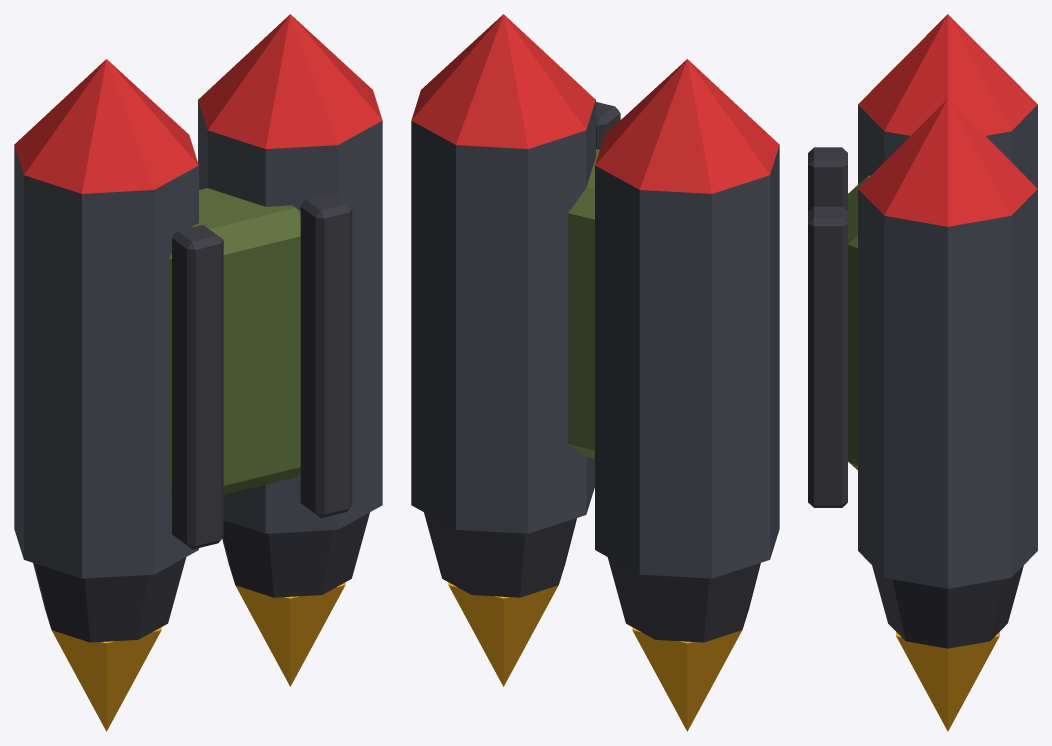
File: Jetpack.fbx
3 renders of one model, left to right at view 1: azimuth 30°, elevation 25°; view 2: azimuth 150°, elevation 25°; view 3: azimuth 270°, elevation 25°, orthographic. The views are drawn at different scales.
Visible parts, largest first — view 1: Jetpack; view 2: Jetpack; view 3: Jetpack.
Boxes of the visible parts, bbox=[...] form: Jetpack: bbox=[14, 14, 382, 731]; Jetpack: bbox=[411, 14, 779, 731]; Jetpack: bbox=[808, 14, 1037, 731].
Size of the model in its own units: 1.9 by 3.5 by 1.15.
1 material, 1 textured.
